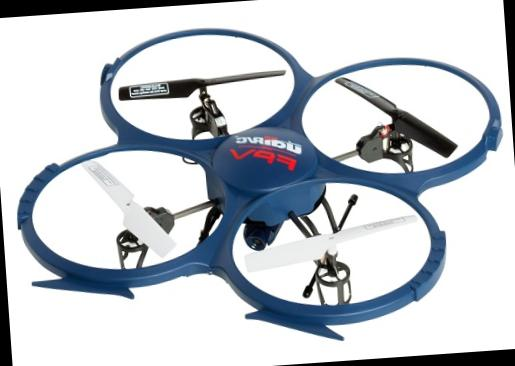drone: (3, 14, 515, 346)
